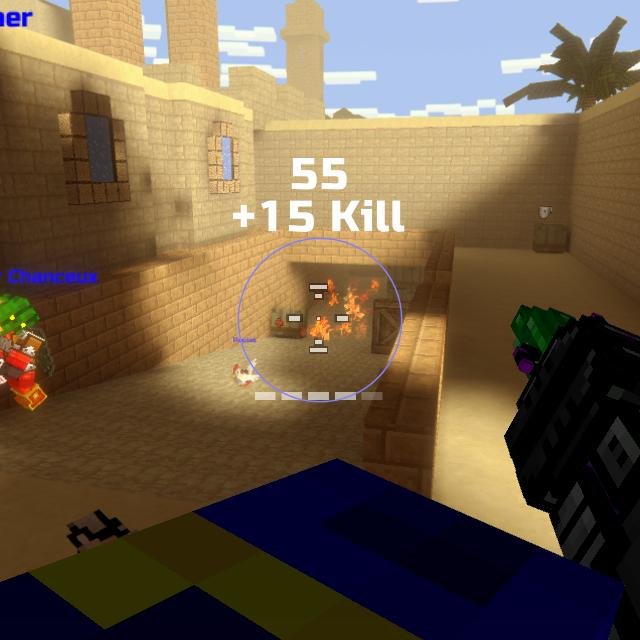Enemy: (326, 283, 334, 306)
